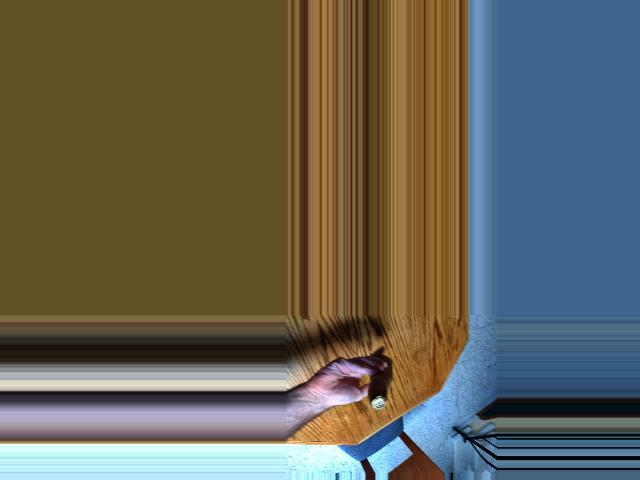sweet_potato: (375, 354, 393, 403)
